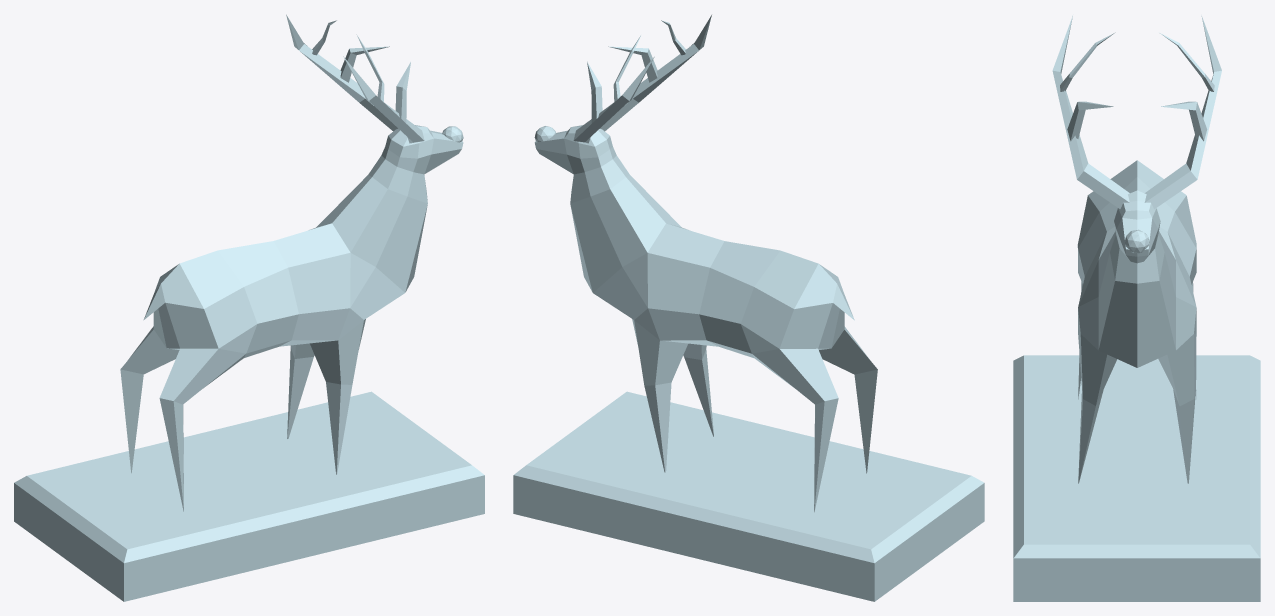
The model's file is rudolphstatue.fbx.
3 views of the same model, side by side, from view 1: azimuth 30°, elevation 25°; view 2: azimuth 150°, elevation 25°; view 3: azimuth 270°, elevation 25° (orthographic). The views are drawn at different scales.
Visible parts, largest first — view 1: rudolphstatue; view 2: rudolphstatue; view 3: rudolphstatue.
Boxes of the visible parts, x1=… form: rudolphstatue: x1=14, y1=14, x2=484, y2=601; rudolphstatue: x1=513, y1=15, x2=984, y2=601; rudolphstatue: x1=1013, y1=15, x2=1260, y2=601.
Bounding box in the file's own units: 862 × 978 × 417.
